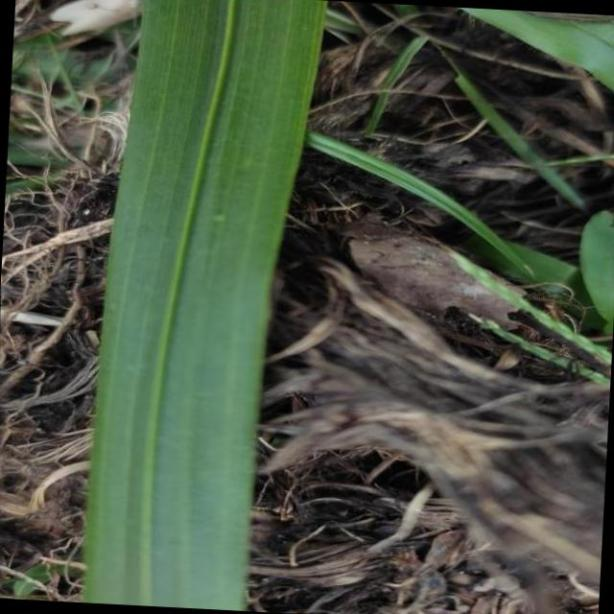Healthy: (86, 0, 326, 614)
